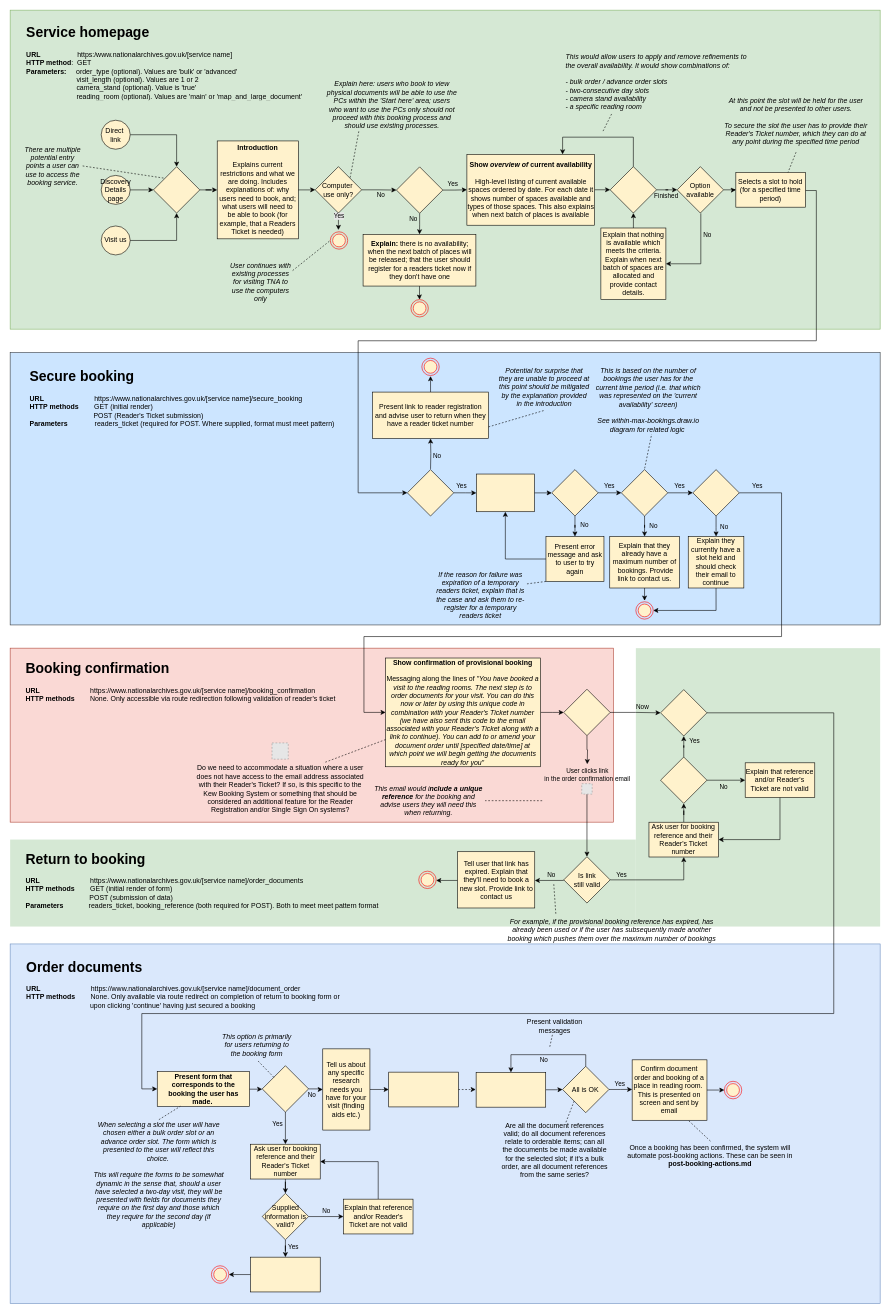
Some shapes in this 890 by 1314 pixel diagram are drawn without their labels. Grey dashed boxes stand in for pictures. The centre of each missing label's shape, as x and y in pixels:
"Cancel booking?" belongs at point 285,1088.
"Complete and submit form" belongs at point 511,1089.
"Confirm cancellation" belongs at point 285,1274.
"Continue" belongs at point 586,712.
"Do you have accessibility needs for your visit?" belongs at point 423,1089.
"Enter reader ticket number to hold slot" belongs at point 505,492.
"Has a reader ticket?" belongs at point 430,492.
"Is there availability?" belongs at point 419,189.
"No slots currently held" belongs at point 715,492.
"Refine view" belongs at point 633,189.
"Supplied information is valid" belongs at point 683,779.
"Valid reader ticket number" belongs at point 574,492.
"Within max bookings" belongs at point 644,492.
